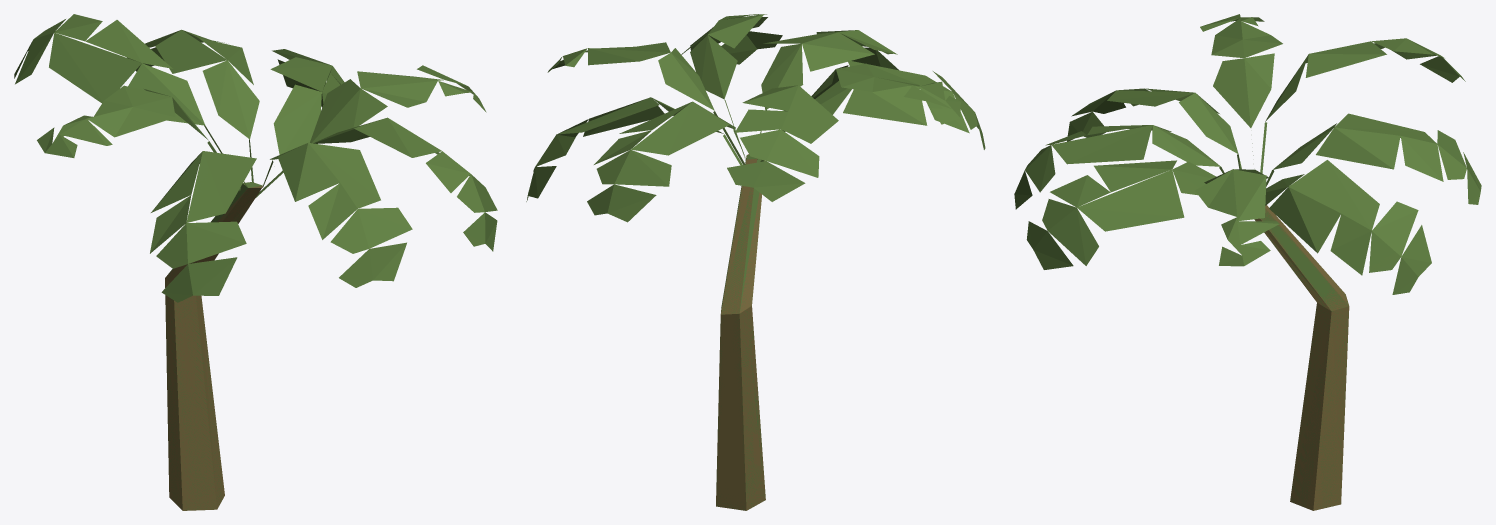
File: Vegetation_Tree_Palm_01.fbx
The picture shows the model from 3 angles, left to right: view 1: azimuth 30°, elevation 25°; view 2: azimuth 150°, elevation 25°; view 3: azimuth 270°, elevation 25°; orthographic projection. The views are drawn at different scales.
Parts seen in each view (by area): view 1: Vegetation_Tree_Palm_01; view 2: Vegetation_Tree_Palm_01; view 3: Vegetation_Tree_Palm_01.
Part boxes in pixels (box(x1,y1,x2,y2)): Vegetation_Tree_Palm_01: box(14, 14, 497, 510); Vegetation_Tree_Palm_01: box(526, 14, 985, 510); Vegetation_Tree_Palm_01: box(1014, 14, 1481, 510).
Bounding box in the file's own units: 3993 × 4041 × 4016.
